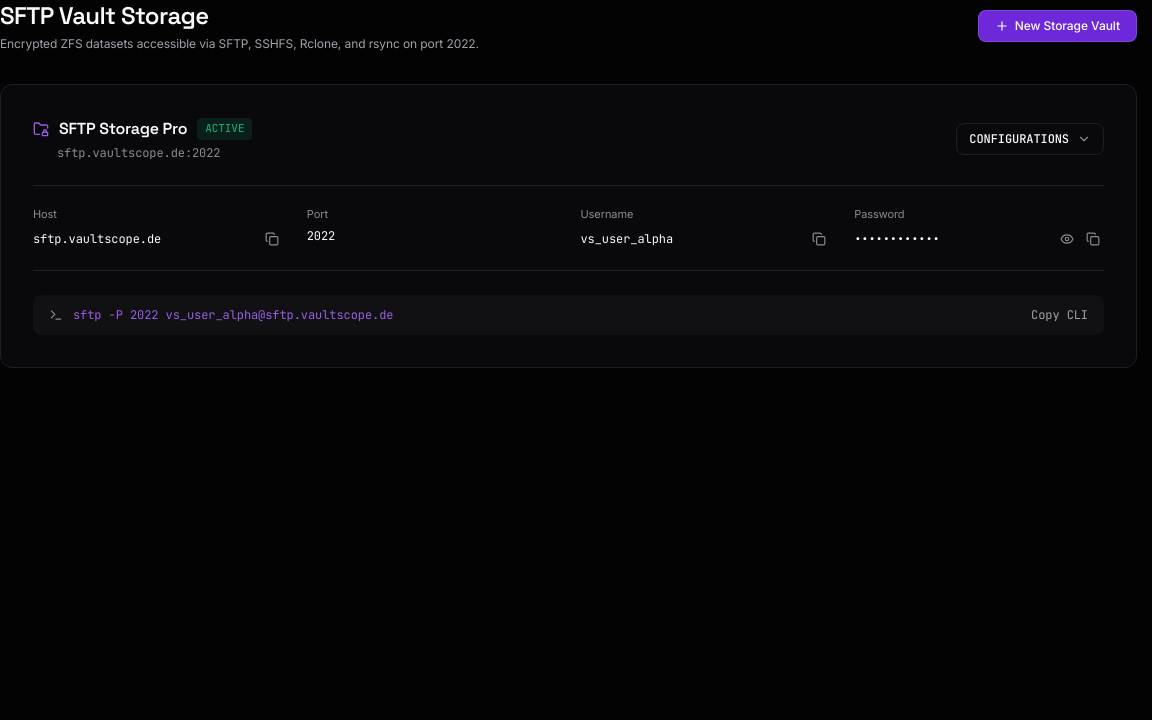
Scenario: SftpStorage - CONFIGURATIONS & FTHR Preset › displays the "Don't share this with anyone" screen modal after selecting FTHR
Expected: the text "CONFIGURATIONS" is shown, [969,131,1069,147]
Click the button "CONFIGURATIONS" at (1030, 139), box [956,123,1104,155]
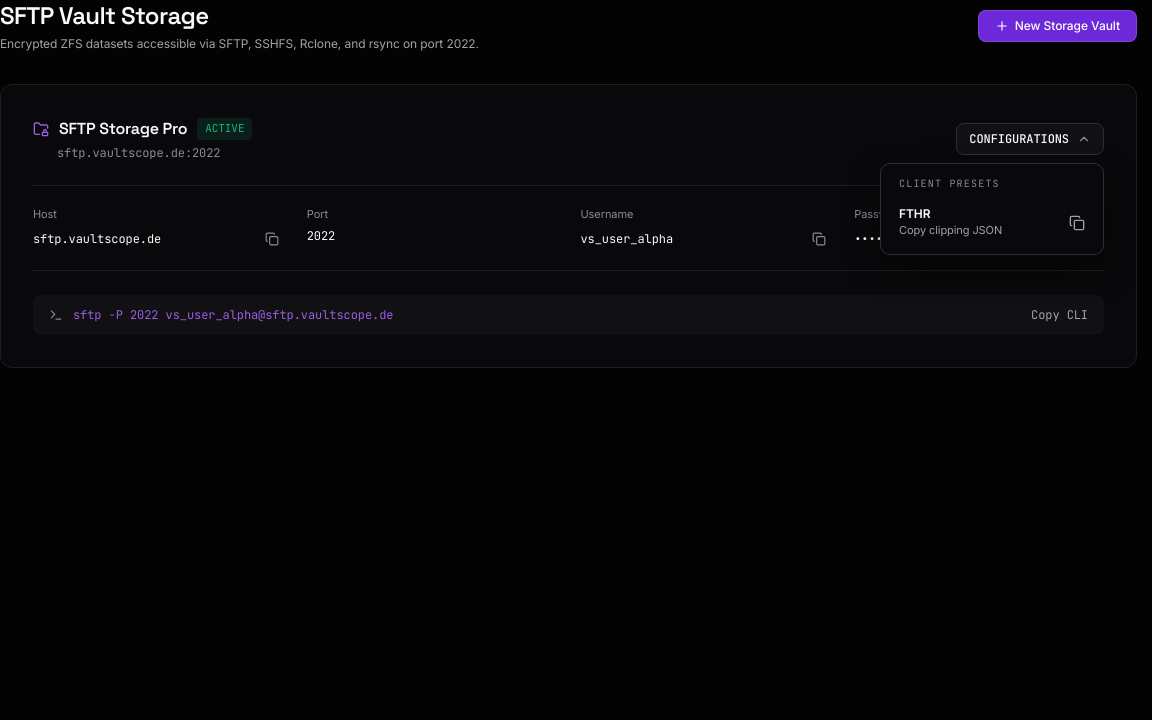
Click the text "FTHR" at (915, 214), box [899,206,930,221]
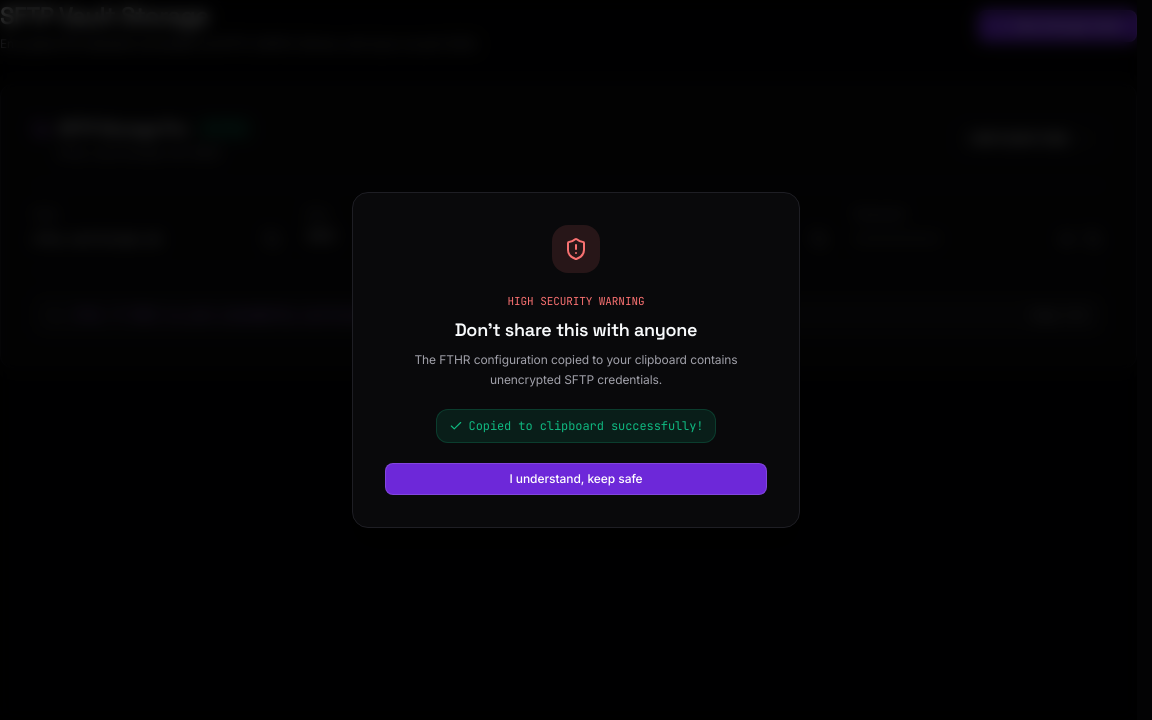
Expected: the heading "Don't share this with anyone" is shown, [455,318,697,341]
Expected: the text "High Security Warning" is shown, [508,294,644,308]
Expected: the text "Copied to clipboard successfully!" is shown, [436,409,716,443]
Click the button "I understand, keep safe" at (576, 479), box [385,463,767,495]
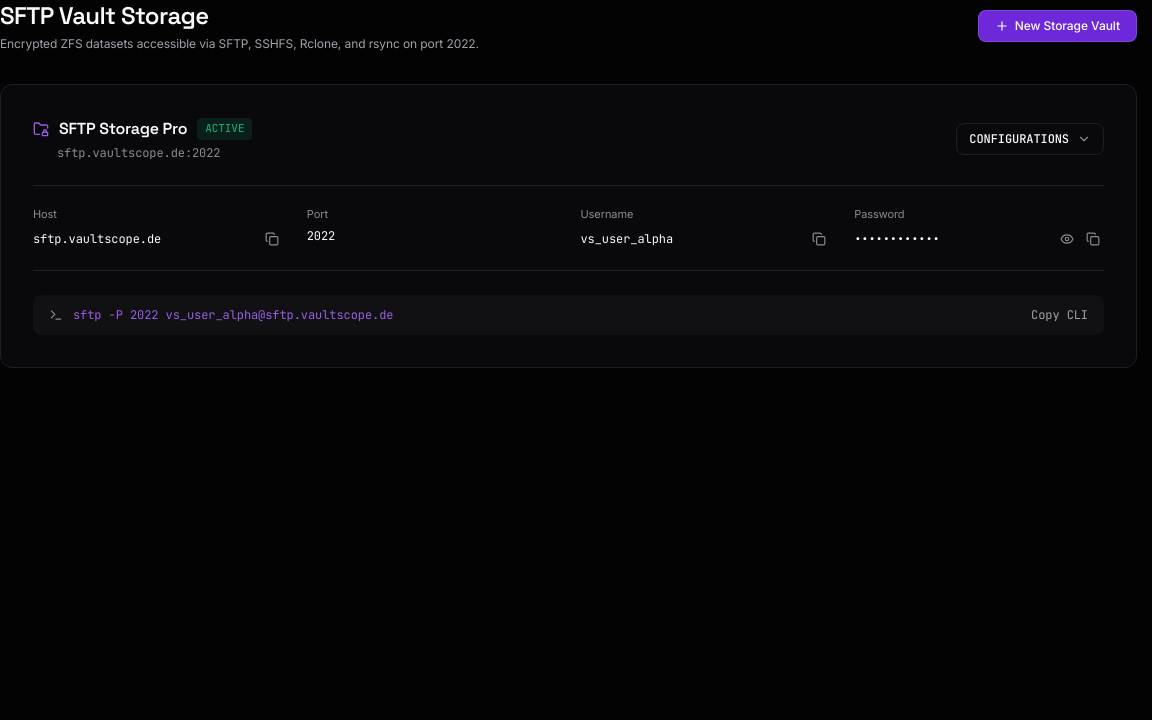
Expected: the heading "Don't share this with anyone" is gone
